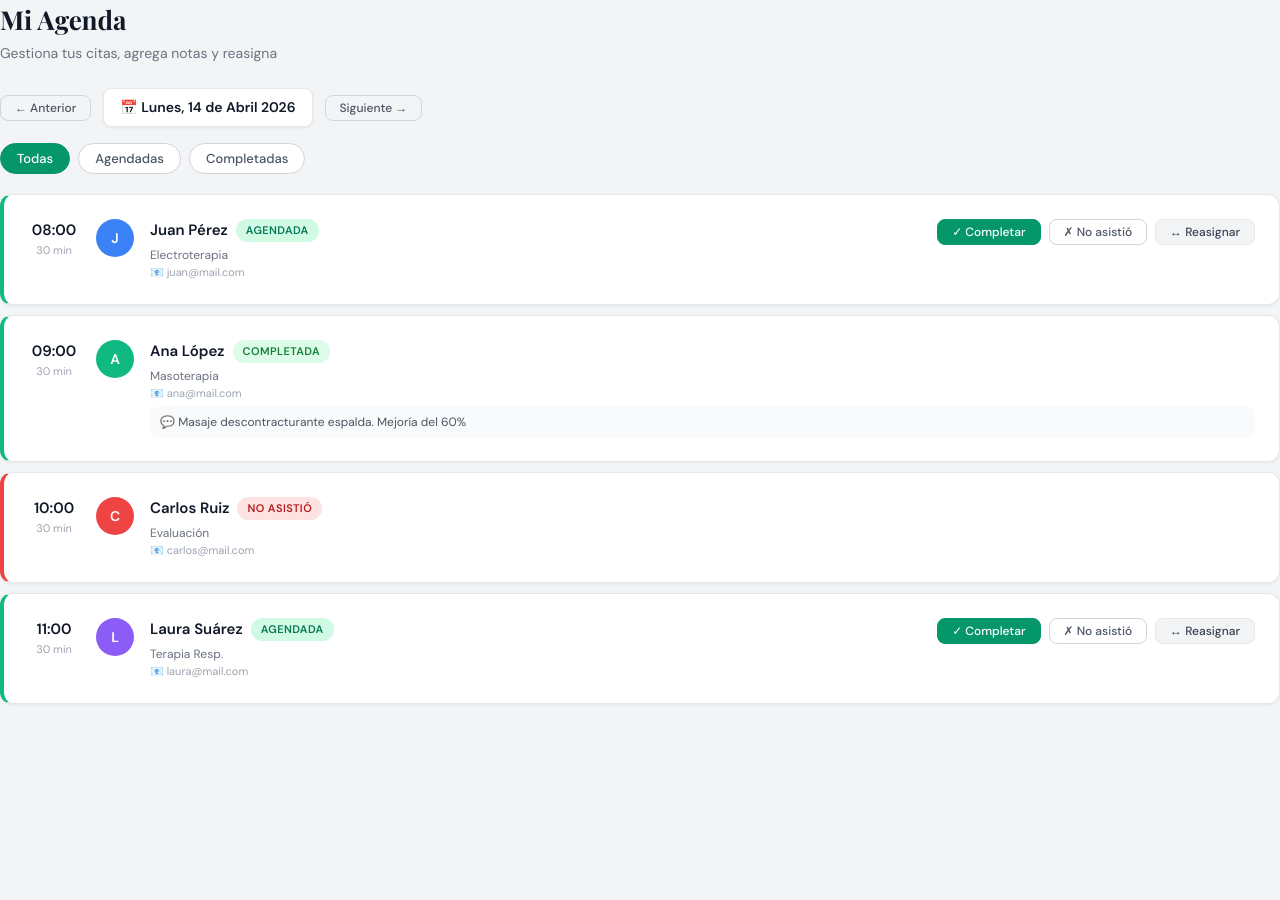
Scenario: <MiAgenda /> › al hacer clic en "Reasignar", abre el modal
Click the button "↔ Reasignar" in the row of "Juan Pérez".
click(1205, 232)  # box [1155,219,1255,245]
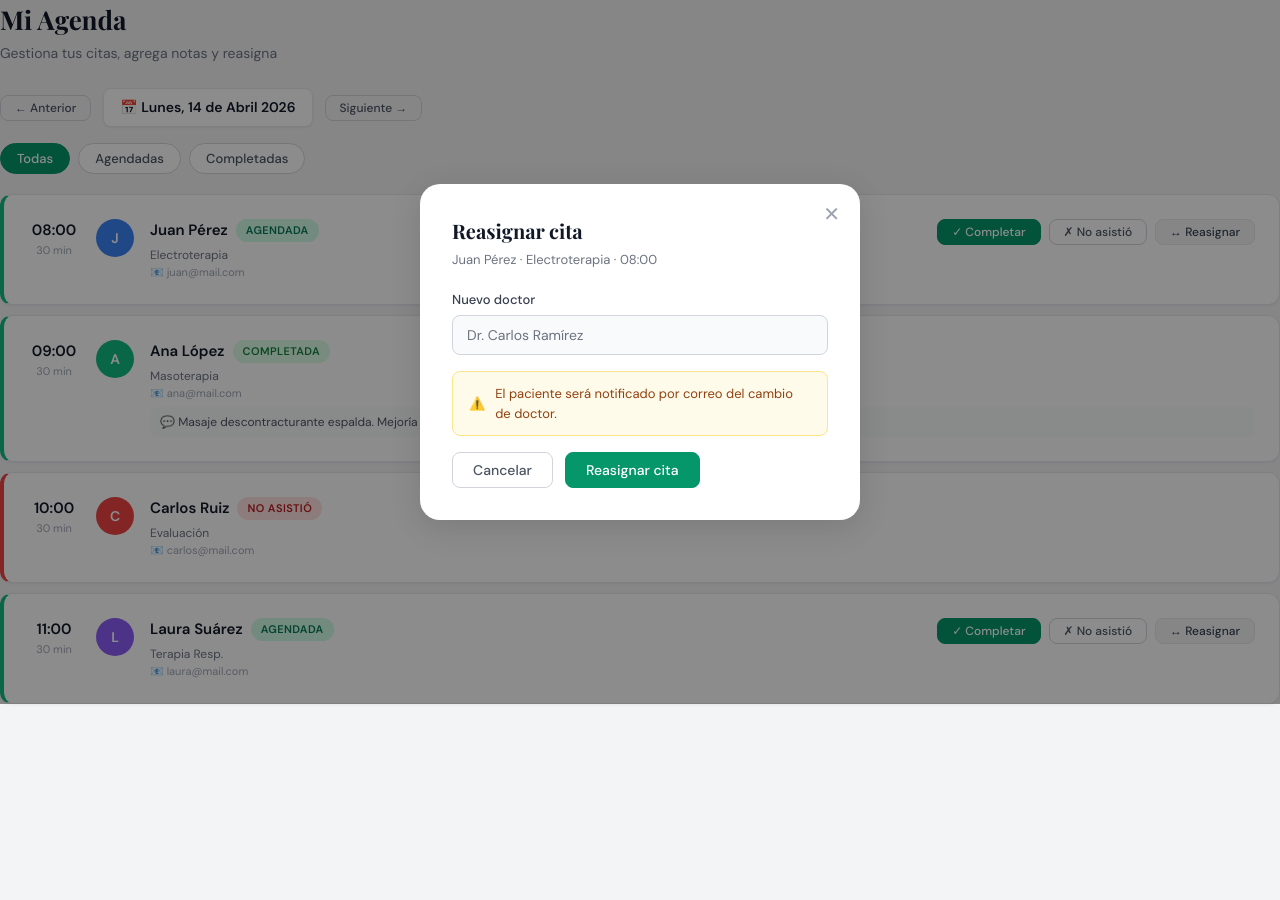
Expected: the heading "Reasignar cita" is shown, [452,217,583,244]
Expected: the text "El paciente será notificado por correo del cambio de doctor." is shown, [495,384,811,423]
